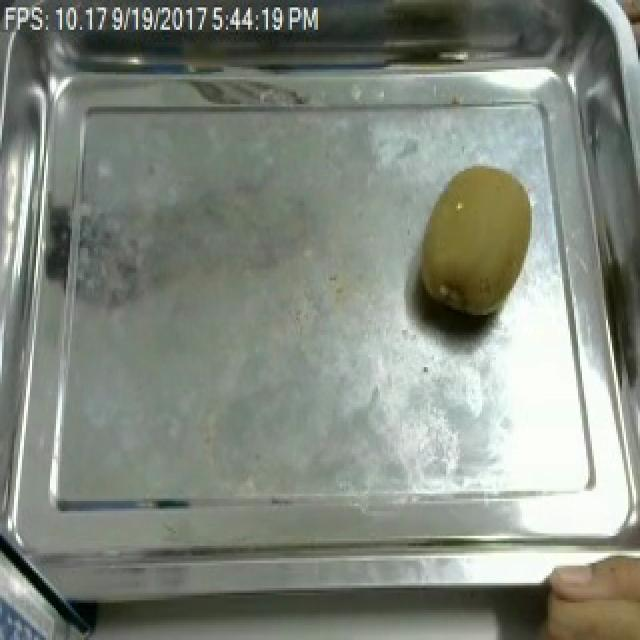Fruit: (408, 154, 544, 330), (518, 541, 640, 640)
